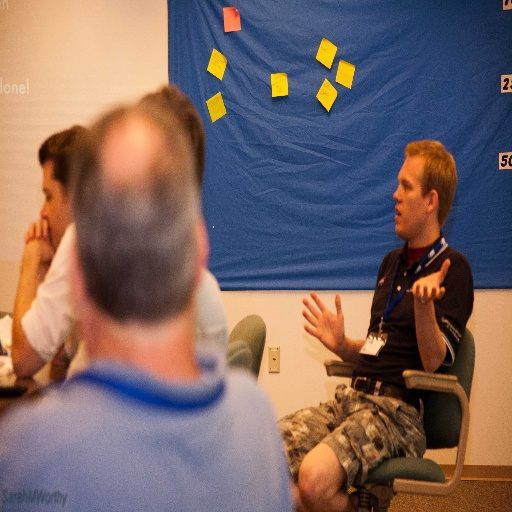hand: (308, 298, 367, 358), (409, 257, 450, 305), (24, 236, 55, 263), (24, 216, 49, 243)
